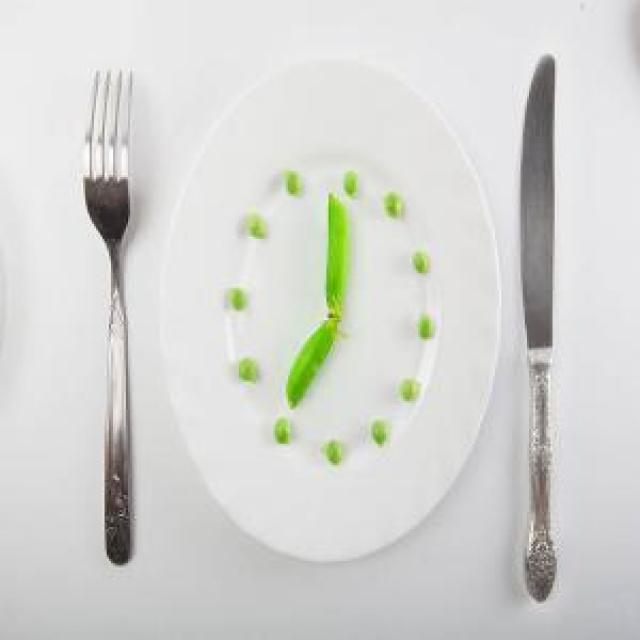knife: (516, 53, 559, 607)
